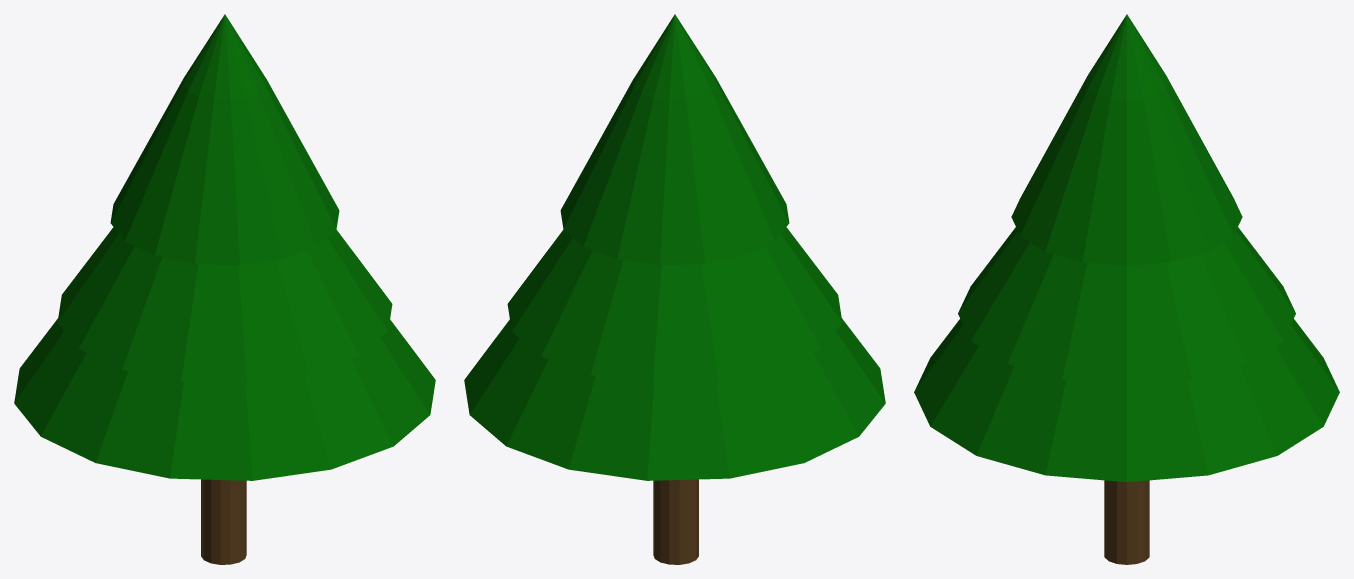
File: tree_AK.fbx
3 views of the same model, side by side, from view 1: azimuth 30°, elevation 25°; view 2: azimuth 150°, elevation 25°; view 3: azimuth 270°, elevation 25° (orthographic).
Parts seen in each view (by area): view 1: pCylinder36; view 2: pCylinder36; view 3: pCylinder36.
Boxes of the visible parts, x1,y1,x2,y2 form: pCylinder36: (14,14,435,564); pCylinder36: (464,14,885,564); pCylinder36: (914,14,1339,564).
Size of the model in its own units: 320 by 449 by 320.
